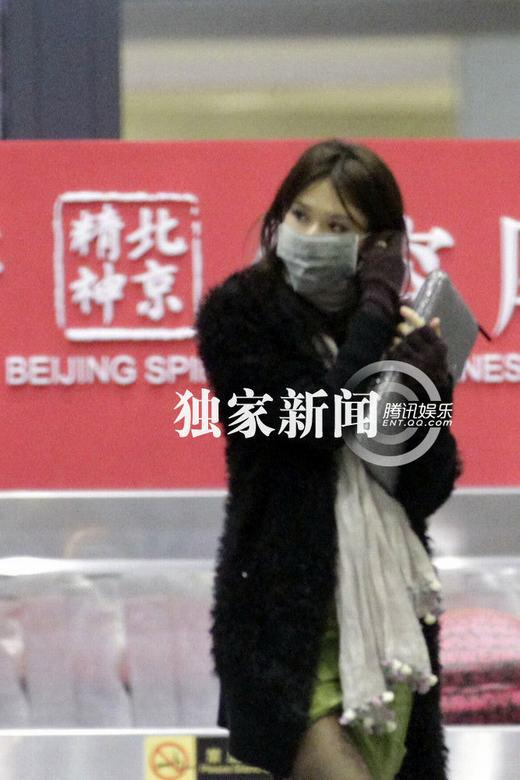OK: (270, 192, 372, 294)
